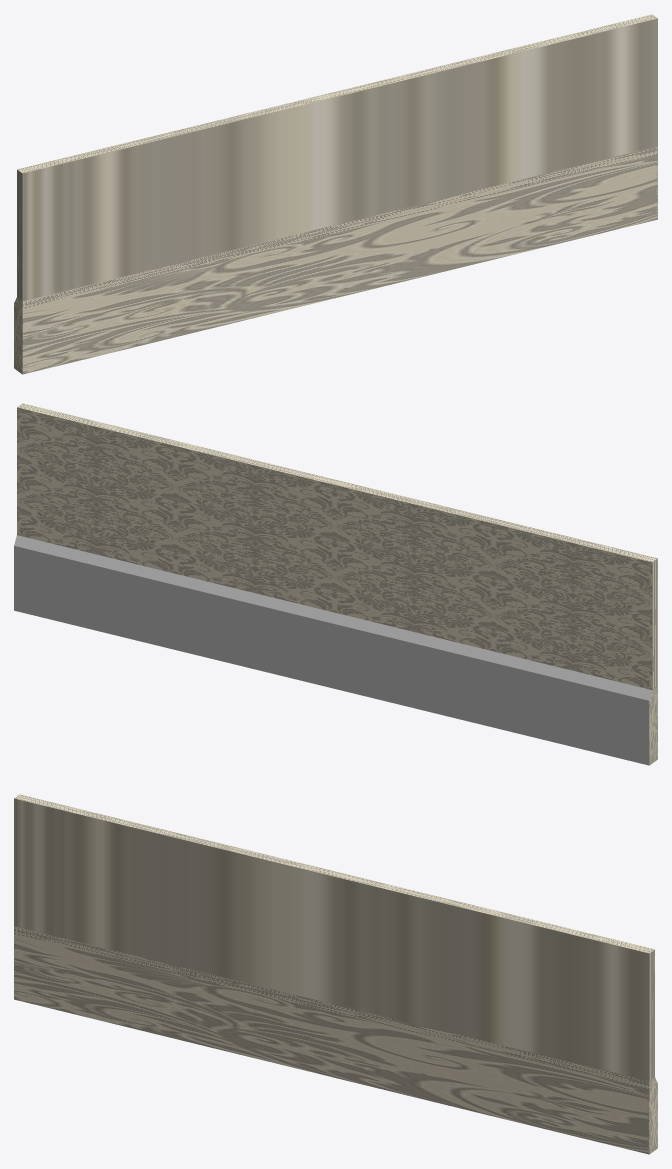
Rendered from EndWall.fbx.
3 views of the same model, one above another, from view 1: azimuth 30°, elevation 25°; view 2: azimuth 150°, elevation 25°; view 3: azimuth 330°, elevation 25° (orthographic).
Visible parts, largest first — view 1: EndWall; view 2: EndWall; view 3: EndWall.
Boxes of the visible parts, x1,y1,x2,y2 form: EndWall: (14, 14, 657, 374); EndWall: (14, 403, 657, 765); EndWall: (14, 794, 657, 1154).
Bounding box in the file's own units: 1344 × 406 × 31.34.
